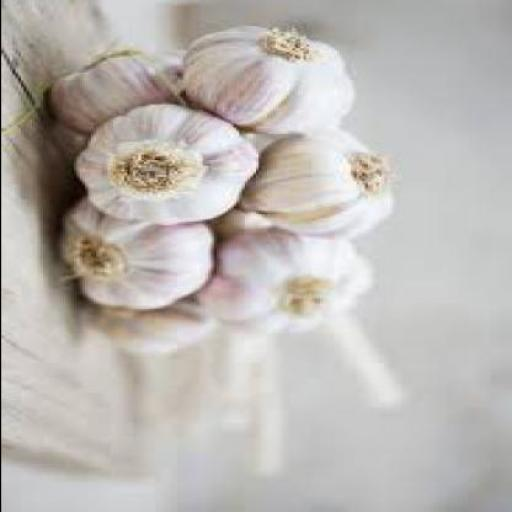biodegradable: (69, 107, 269, 227), (182, 30, 355, 136), (240, 130, 400, 240), (64, 202, 218, 314), (210, 230, 372, 336), (48, 48, 186, 142), (78, 291, 210, 363), (210, 208, 282, 240)
